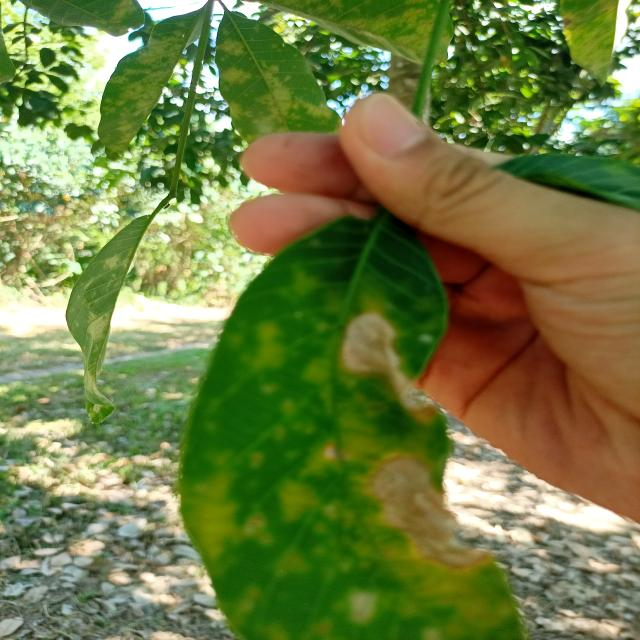Leaf-Blight: (366, 453, 491, 568), (338, 310, 438, 426)
